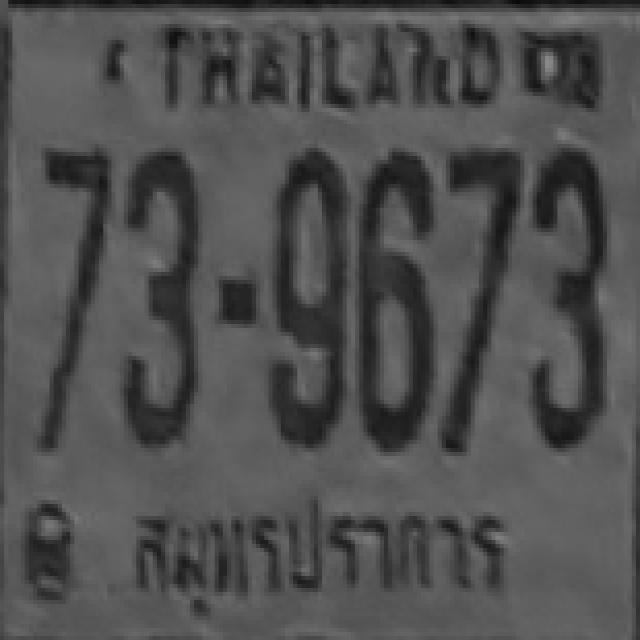0: (355, 250, 430, 446), (272, 148, 342, 324), (528, 146, 603, 294)
7: (42, 146, 112, 306), (446, 146, 520, 294), (446, 144, 520, 280)
SamutPrakan: (104, 475, 525, 632)
